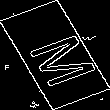M_NE: (13, 24, 97, 86)
